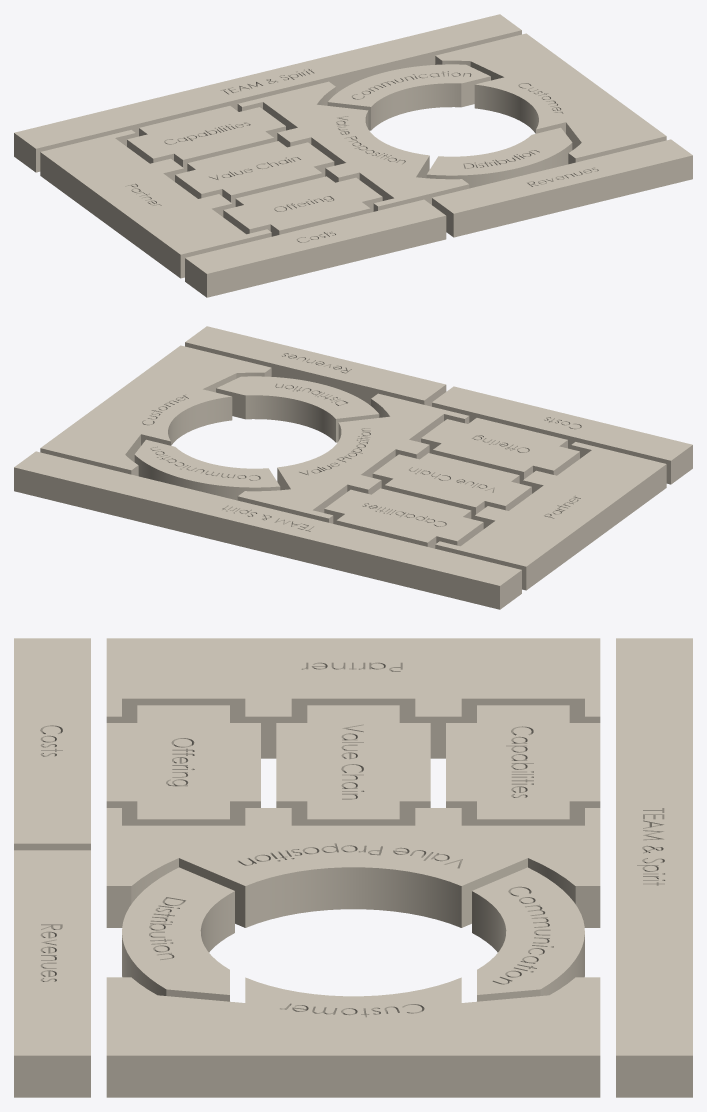
Rendered from 20250731_Canvas_glb.glb.
The picture shows the model from 3 angles, top to bottom: view 1: azimuth 30°, elevation 25°; view 2: azimuth 150°, elevation 25°; view 3: azimuth 270°, elevation 25°; orthographic projection. The views are drawn at different scales.
Visible parts, largest first — view 1: 20250730_Partner-1, 20250730_Team-1, 20250730_Customer-1, 20250730_Costs-1, 20250730_Revenues-1, 20250730_Value Proposition_v3-1, 20250730_Value Chain-1, 20250730_Capabilities-1, 20250730_Offering-1, 20250730_Communication-1, 20250730_Distribution-1; view 2: 20250730_Team-1, 20250730_Partner-1, 20250730_Customer-1, 20250730_Value Proposition_v3-1, 20250730_Revenues-1, 20250730_Costs-1, 20250730_Offering-1, 20250730_Value Chain-1, 20250730_Capabilities-1, 20250730_Distribution-1, 20250730_Communication-1; view 3: 20250730_Customer-1, 20250730_Value Proposition_v3-1, 20250730_Partner-1, 20250730_Team-1, 20250730_Revenues-1, 20250730_Value Chain-1, 20250730_Offering-1, 20250730_Capabilities-1, 20250730_Costs-1, 20250730_Distribution-1, 20250730_Communication-1.
Boxes of the visible parts, x1,y1,x2,y2 form: 20250730_Partner-1: (40,130,271,278); 20250730_Team-1: (14,14,521,172); 20250730_Customer-1: (435,33,666,164); 20250730_Costs-1: (185,199,446,297); 20250730_Revenues-1: (432,139,692,237); 20250730_Value Proposition_v3-1: (237,81,469,211); 20250730_Value Chain-1: (175,141,334,207); 20250730_Capabilities-1: (127,106,285,172); 20250730_Offering-1: (223,176,382,236); 20250730_Communication-1: (327,64,490,130); 20250730_Distribution-1: (426,127,572,188); 20250730_Team-1: (14,451,521,609); 20250730_Partner-1: (435,442,666,590); 20250730_Customer-1: (40,345,271,476); 20250730_Value Proposition_v3-1: (237,393,469,523); 20250730_Revenues-1: (185,326,446,406); 20250730_Costs-1: (432,386,692,484); 20250730_Offering-1: (421,418,579,484); 20250730_Value Chain-1: (372,453,531,519); 20250730_Capabilities-1: (324,488,483,548); 20250730_Distribution-1: (216,376,379,442); 20250730_Communication-1: (134,439,280,500); 20250730_Customer-1: (106,977,600,1097); 20250730_Value Proposition_v3-1: (106,808,600,927); 20250730_Partner-1: (106,638,600,758); 20250730_Team-1: (616,638,692,1097); 20250730_Revenues-1: (14,850,90,1097); 20250730_Value Chain-1: (276,705,430,825); 20250730_Offering-1: (106,705,260,825); 20250730_Capabilities-1: (446,705,600,825); 20250730_Costs-1: (14,638,90,850); 20250730_Distribution-1: (122,867,234,1001); 20250730_Communication-1: (472,867,584,1001).
Bounding box in the file's own units: 1.28 × 0.06 × 0.88.
